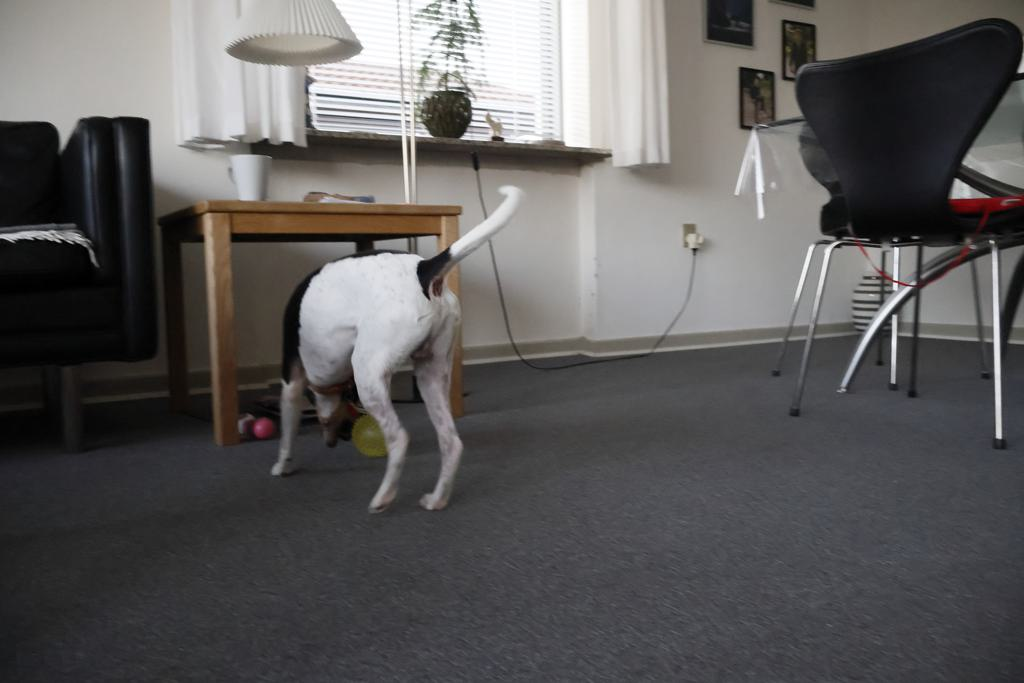Dog: (224, 161, 543, 534)
